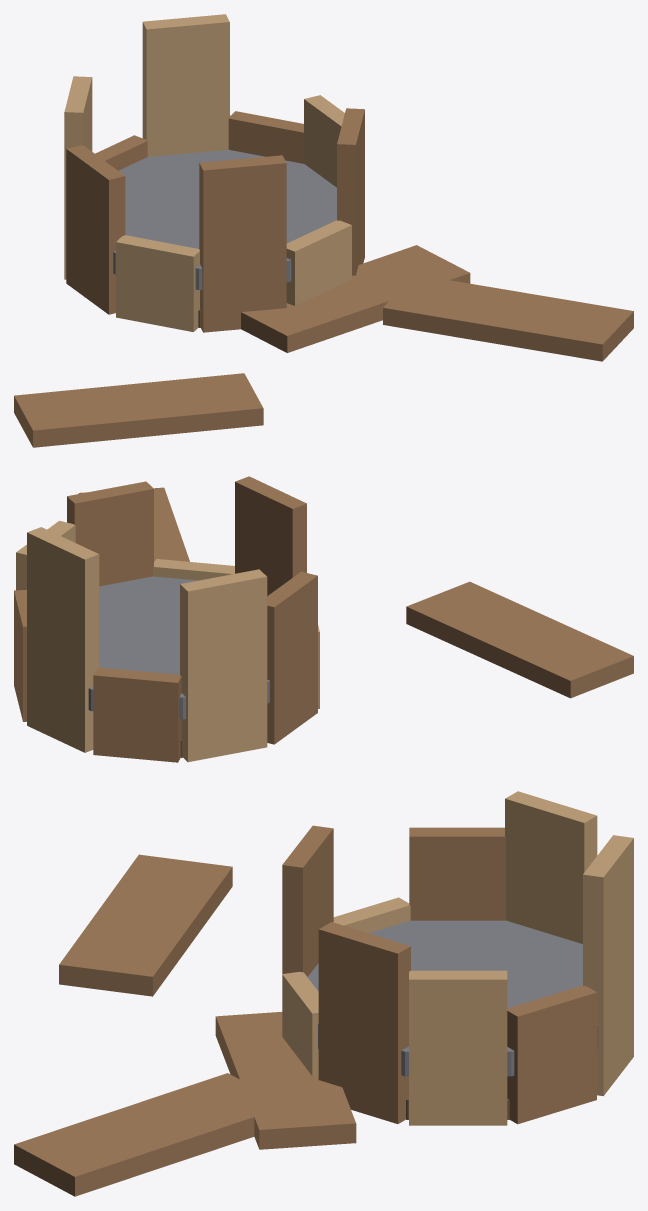
Rendered from SM_Barrel_Broken.glb.
3 views of the same model, one above another, from view 1: azimuth 30°, elevation 25°; view 2: azimuth 150°, elevation 25°; view 3: azimuth 270°, elevation 25° (orthographic). The views are drawn at different scales.
Parts seen in each view (by area): view 1: SM_Barrel_Broken; view 2: SM_Barrel_Broken; view 3: SM_Barrel_Broken.
Boxes of the visible parts, x1,y1,x2,y2 form: SM_Barrel_Broken: (14,14,633,447); SM_Barrel_Broken: (14,476,633,762); SM_Barrel_Broken: (14,791,633,1196).
Size of the model in its own units: 1.4 by 0.4429 by 1.14.
